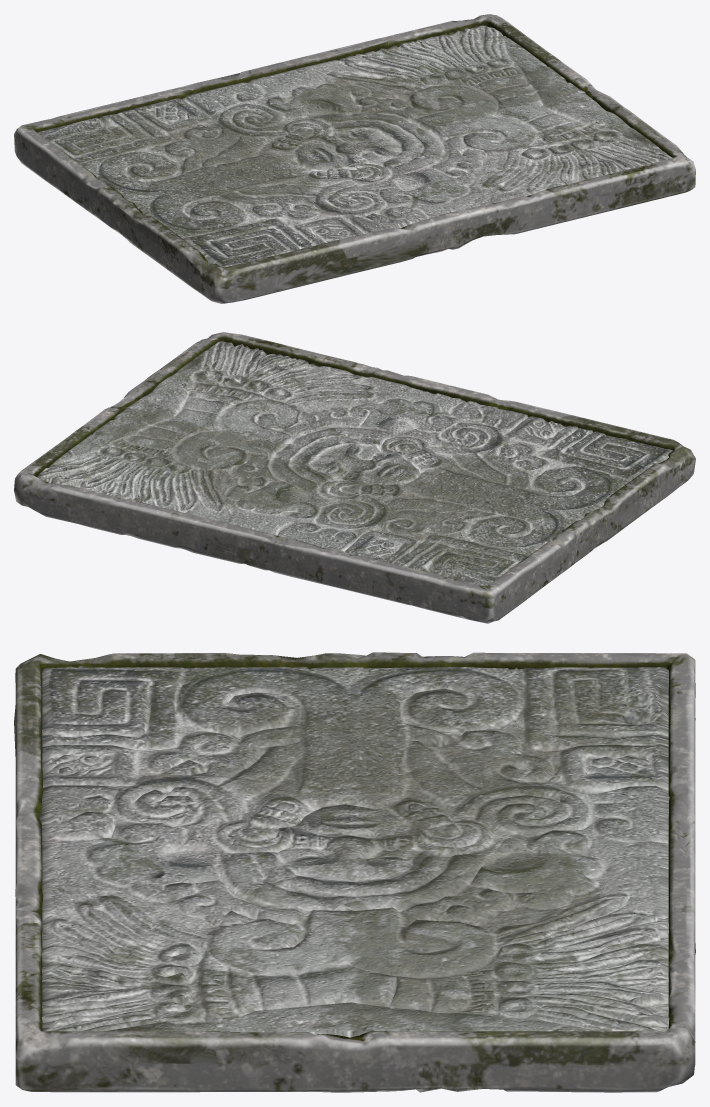
Rendered from SM_Wall_Aztec_D.fbx.
3 views of the same model, one above another, from view 1: azimuth 30°, elevation 25°; view 2: azimuth 150°, elevation 25°; view 3: azimuth 270°, elevation 25° (orthographic). The views are drawn at different scales.
Parts seen in each view (by area): view 1: SM_Wall_Aztec_D_LOD0; view 2: SM_Wall_Aztec_D_LOD0; view 3: SM_Wall_Aztec_D_LOD0.
Part boxes in pixels (x1,y1,x2,y2): SM_Wall_Aztec_D_LOD0: (14,14,695,303); SM_Wall_Aztec_D_LOD0: (14,332,695,623); SM_Wall_Aztec_D_LOD0: (14,652,695,1092).
Bounding box in the file's own units: 59.19 × 43.6 × 4.12.
